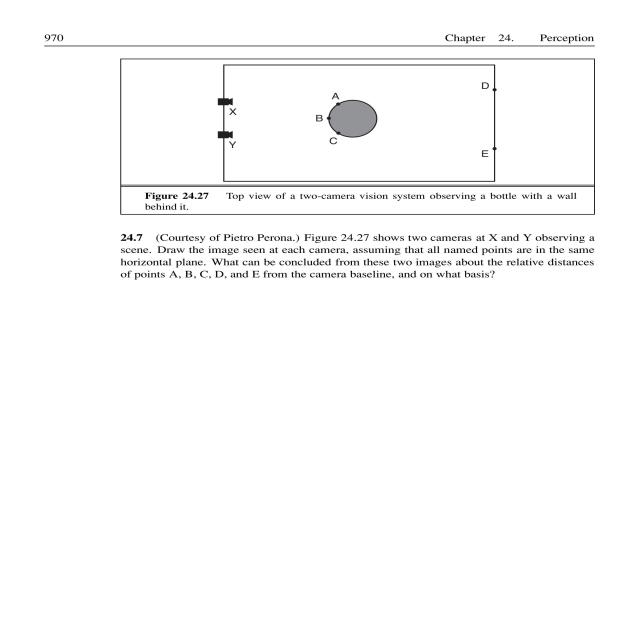diagram: (96, 56, 630, 220)
